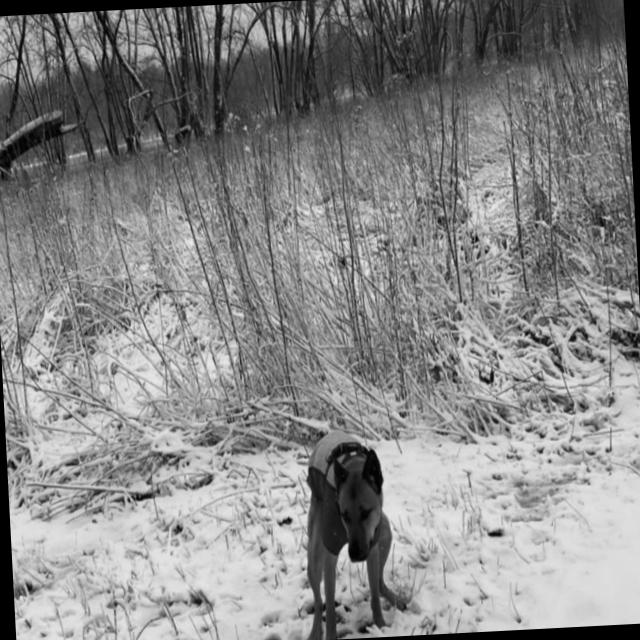squatting: (283, 415, 415, 640)
